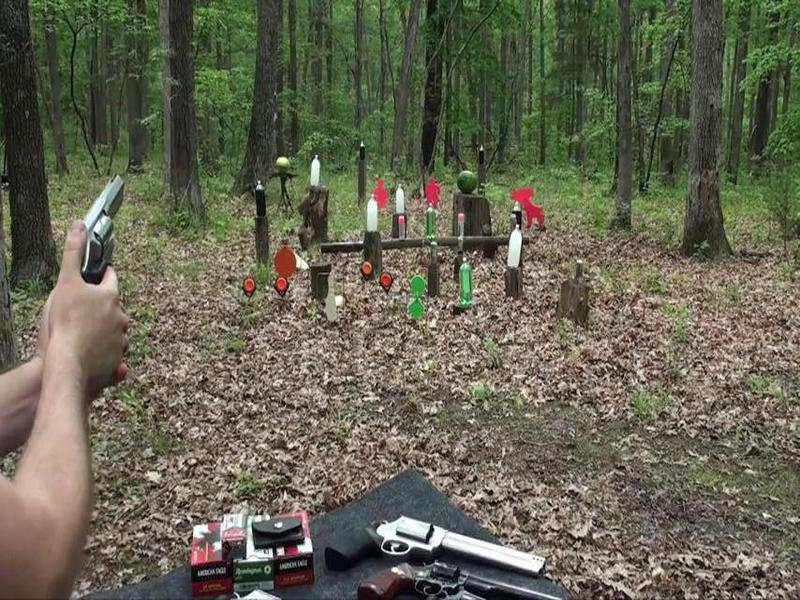Revolver: (57, 167, 148, 324)
